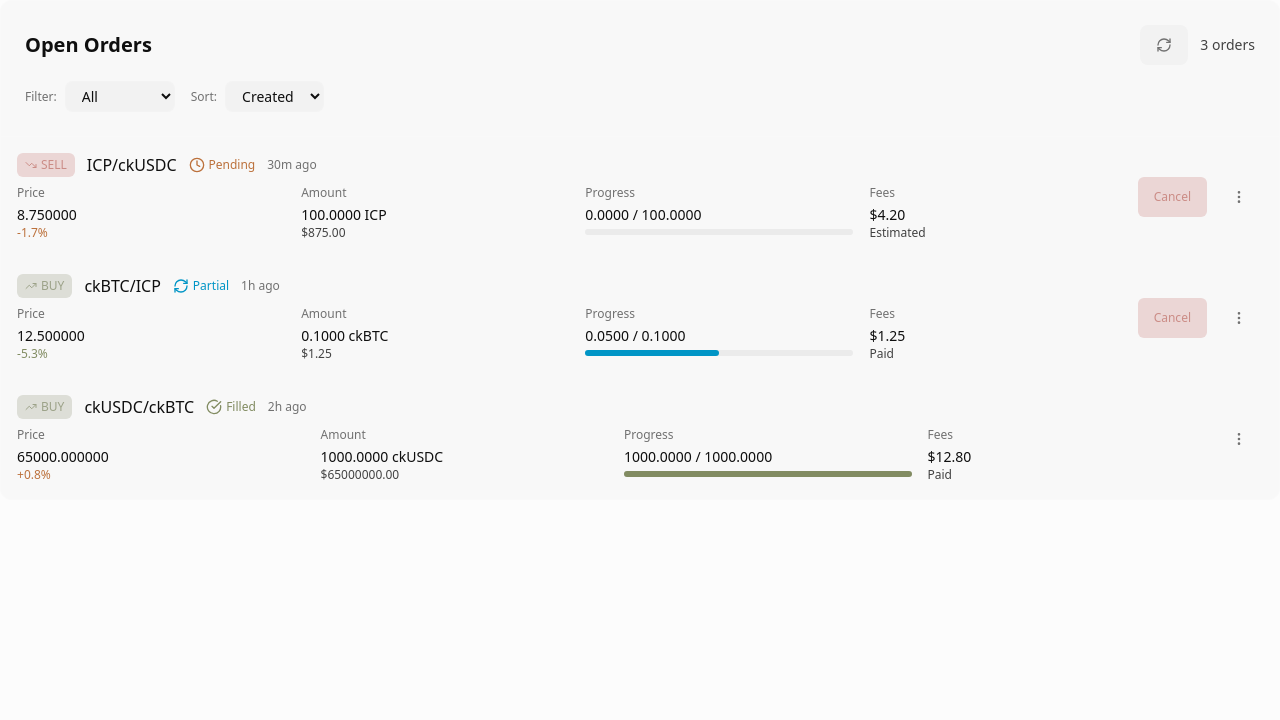
Scenario: OpenOrdersList Component › Order Cancellation with Wallet Signature › should close confirmation modal when Keep Order is clicked
The width and height of the screenshot is (1280, 720).
Open modal
What coordinates should you click on to do the following:
click the button "Cancel" in the row of "4.20"
I would click on:
 (1172, 197)
Its box is x1=1138 y1=177 x2=1207 y2=217.
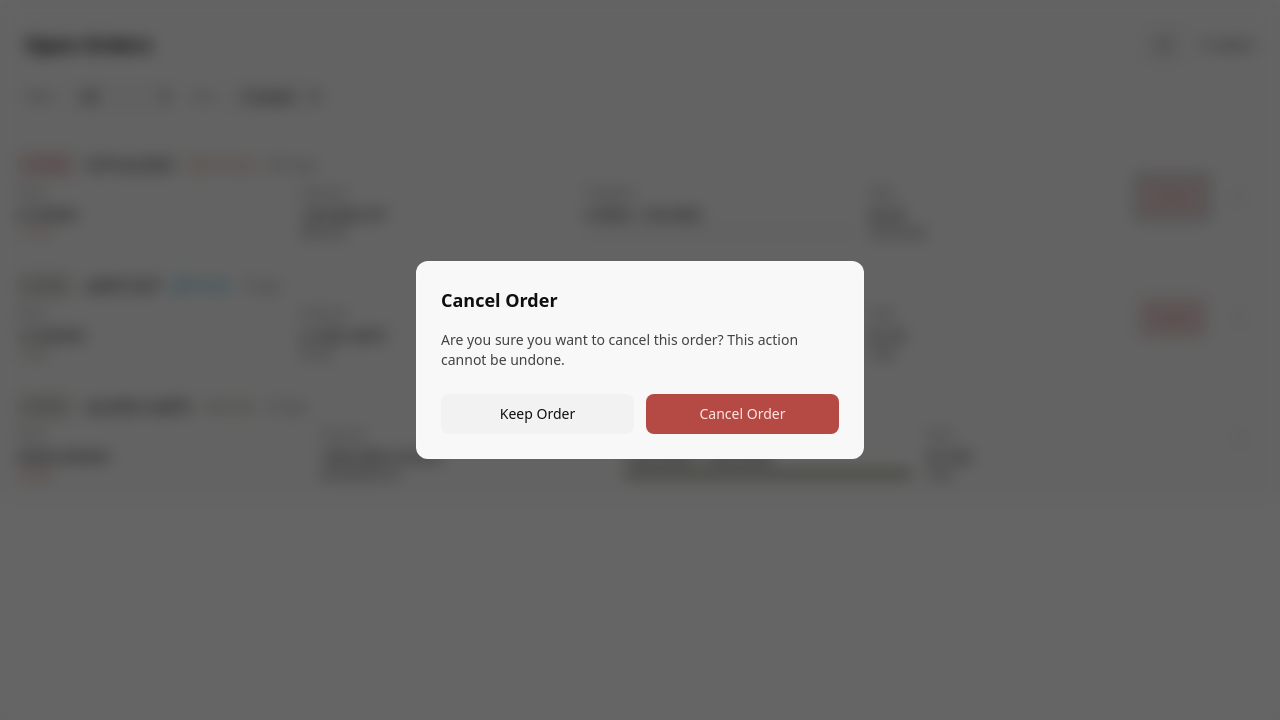
Click Keep Order
What coordinates should you click on to do the following:
click the button "Keep Order"
I would click on:
 (538, 414)
Its box is x1=441 y1=394 x2=634 y2=434.
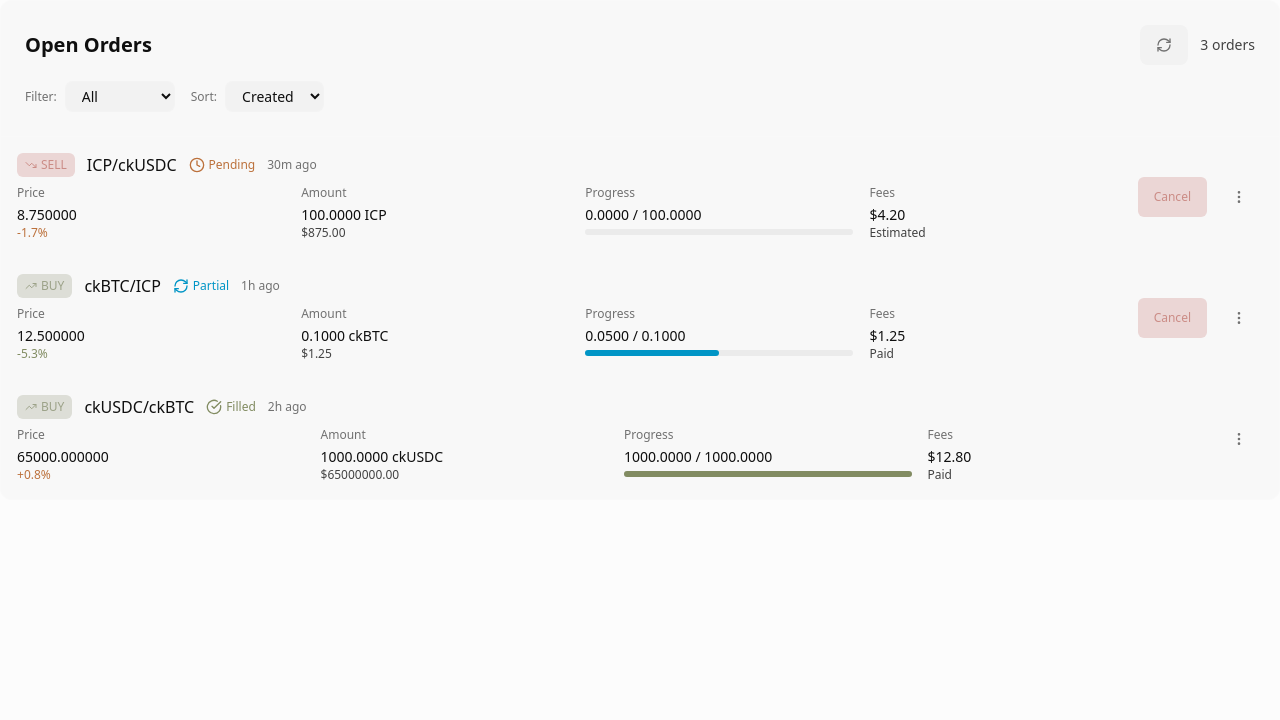
Result: the heading "Cancel Order" is gone
